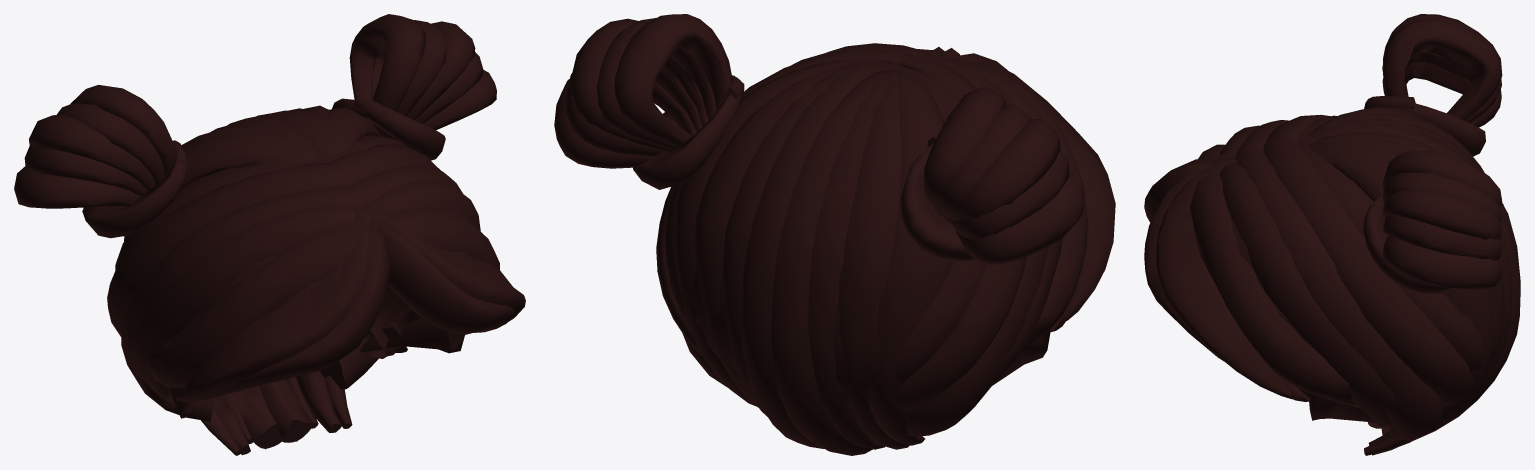
Rendered from hair-5-ac1c6bbe.glb.
3 renders of one model, left to right at view 1: azimuth 30°, elevation 25°; view 2: azimuth 150°, elevation 25°; view 3: azimuth 270°, elevation 25°, orthographic. The views are drawn at different scales.
Parts seen in each view (by area): view 1: hair_5.001; view 2: hair_5.001; view 3: hair_5.001.
Boxes of the visible parts, box(x1,y1,x2,y2) form: hair_5.001: box(14, 14, 525, 455); hair_5.001: box(554, 14, 1115, 455); hair_5.001: box(1144, 14, 1520, 455).
Size of the model in its own units: 2.63 by 2.02 by 1.94.
